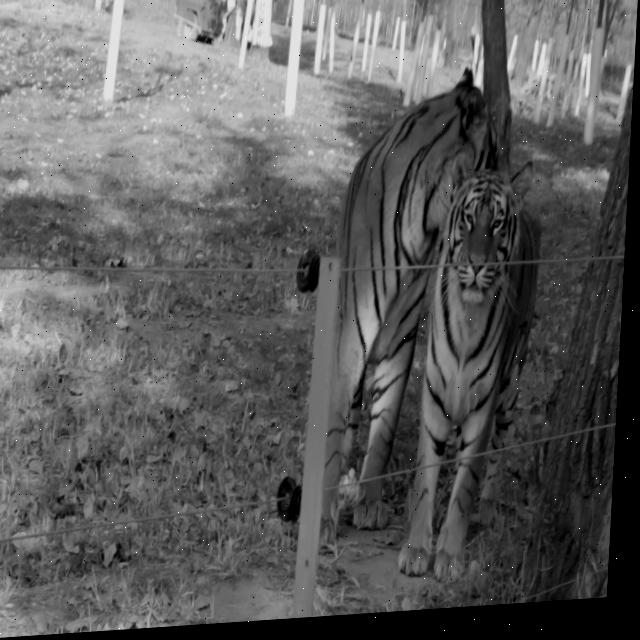Tiger: (317, 63, 503, 548), (395, 148, 546, 585)
